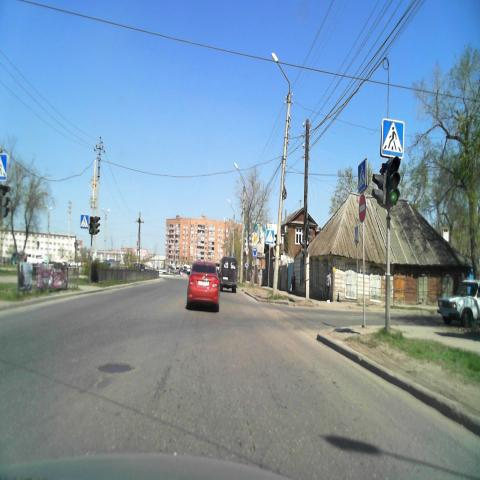2_2: (252, 233, 260, 246)
